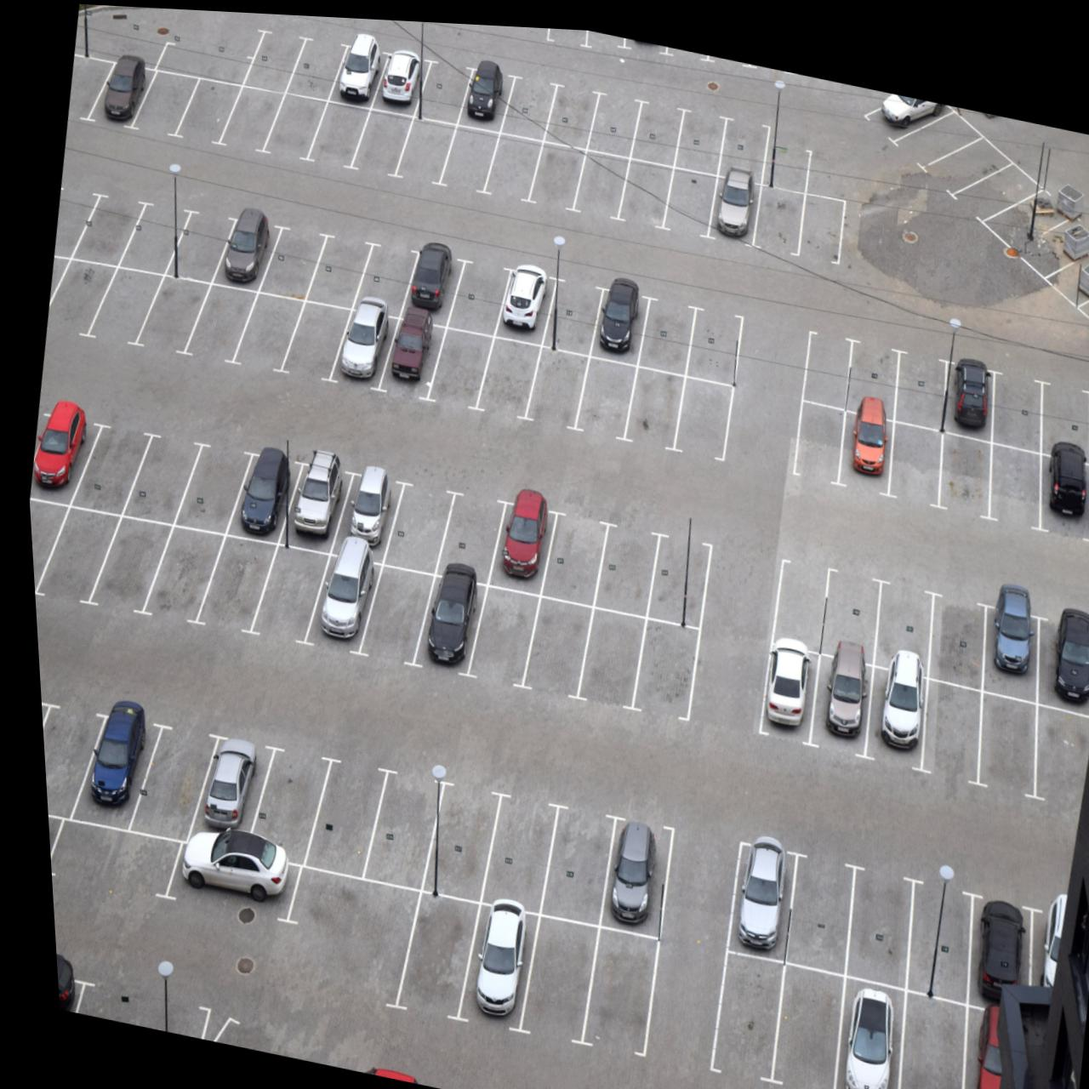cars: (451, 899, 539, 1027), (164, 835, 299, 918), (597, 816, 679, 939), (73, 704, 152, 831), (986, 163, 1089, 258), (962, 899, 1043, 1019), (298, 540, 386, 650), (720, 839, 802, 953), (830, 983, 917, 1089), (800, 644, 880, 759), (858, 662, 937, 773), (190, 733, 265, 849), (413, 571, 486, 680), (211, 198, 287, 301), (276, 446, 346, 553), (751, 645, 827, 743), (26, 406, 100, 504), (373, 309, 448, 405), (486, 493, 557, 589), (334, 301, 407, 393), (86, 48, 157, 141), (977, 608, 1049, 699), (226, 440, 292, 539), (333, 465, 400, 556), (490, 258, 558, 347), (1014, 200, 1089, 279), (1027, 449, 1089, 542), (583, 274, 646, 362), (1032, 613, 1089, 707), (859, 88, 944, 151), (703, 165, 765, 251), (399, 241, 461, 326), (937, 361, 998, 441), (370, 40, 436, 113), (841, 410, 899, 492), (456, 60, 518, 132), (328, 38, 389, 105), (1049, 225, 1089, 319), (1078, 459, 1089, 541)
empty: (698, 940, 791, 1088), (393, 877, 485, 1021), (762, 956, 859, 1089), (48, 815, 177, 906), (517, 910, 606, 1041), (476, 785, 563, 919), (579, 923, 667, 1052), (281, 865, 416, 945), (896, 883, 980, 1011), (130, 716, 214, 839), (106, 183, 202, 288), (841, 871, 922, 992), (194, 526, 282, 637), (537, 798, 617, 920), (362, 759, 439, 883), (36, 500, 125, 604), (420, 766, 495, 887), (780, 856, 856, 975), (967, 692, 1050, 797), (308, 760, 384, 874), (251, 743, 328, 855), (89, 509, 171, 614), (184, 272, 265, 378), (144, 523, 226, 625), (129, 272, 215, 368), (628, 611, 701, 724), (916, 681, 991, 790), (573, 599, 648, 707), (892, 998, 980, 1089), (41, 696, 105, 821), (364, 561, 439, 667), (68, 412, 148, 511), (914, 124, 1013, 204), (271, 297, 356, 390), (159, 199, 240, 296), (940, 144, 1038, 224), (516, 593, 594, 692), (469, 577, 543, 681), (173, 439, 252, 536), (890, 97, 983, 179), (230, 288, 310, 383), (639, 526, 716, 624), (299, 225, 379, 318), (922, 593, 996, 693), (259, 537, 333, 637), (277, 14, 352, 112), (588, 512, 662, 609), (123, 429, 196, 527), (255, 218, 333, 308), (473, 330, 546, 426), (74, 176, 142, 278), (431, 483, 504, 578), (522, 343, 594, 439), (815, 565, 886, 662), (870, 576, 941, 673), (536, 509, 605, 604), (573, 352, 641, 448), (764, 554, 831, 651), (90, 270, 170, 351), (568, 144, 639, 235), (1027, 704, 1089, 808), (619, 366, 689, 458), (444, 251, 514, 343), (44, 251, 116, 340), (425, 321, 495, 412), (480, 123, 552, 211), (155, 24, 255, 87), (975, 437, 1046, 525), (348, 226, 417, 316), (527, 133, 599, 219), (534, 266, 603, 354), (380, 480, 448, 569), (239, 12, 312, 94), (221, 76, 285, 168), (681, 305, 750, 390), (931, 429, 994, 519), (267, 83, 330, 172), (673, 375, 736, 463), (880, 420, 947, 502), (887, 350, 954, 432), (309, 97, 376, 177), (661, 163, 721, 252), (396, 110, 457, 197), (843, 338, 905, 422), (749, 174, 811, 256), (1032, 375, 1089, 464), (633, 292, 696, 372), (359, 103, 415, 192), (580, 81, 645, 157), (792, 396, 851, 477), (988, 369, 1047, 449), (442, 120, 500, 201), (795, 186, 853, 267), (618, 154, 673, 239), (185, 73, 238, 161), (415, 46, 477, 119), (800, 325, 857, 404), (628, 93, 690, 164), (29, 492, 72, 593), (500, 73, 561, 144), (714, 111, 771, 181), (760, 123, 817, 193), (541, 80, 603, 143), (145, 65, 191, 148), (672, 109, 730, 174), (1077, 256, 1089, 341), (1086, 395, 1089, 472)
